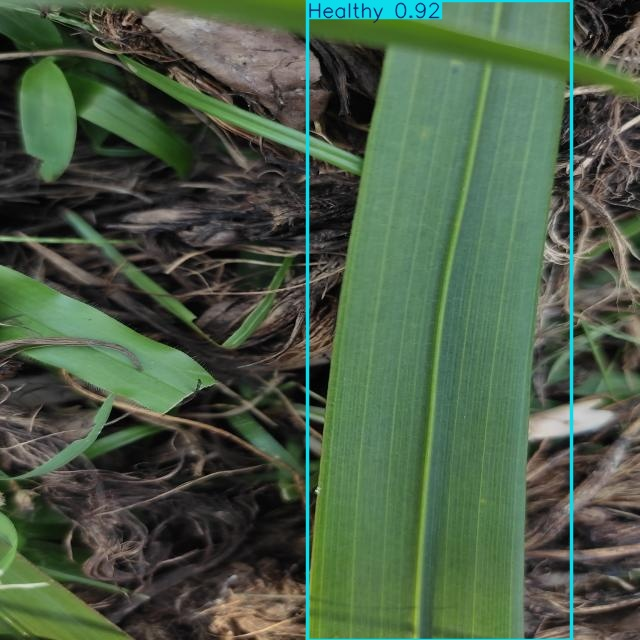Healthy: (307, 1, 572, 640)
